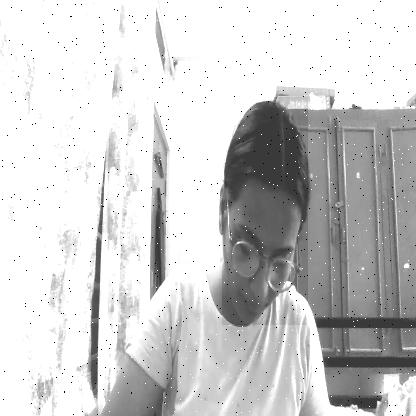Distracted: (222, 98, 308, 326)
